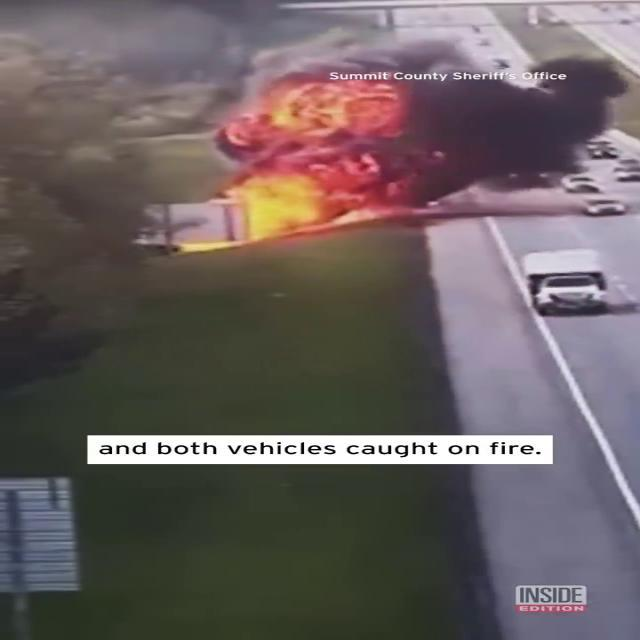Fire: (175, 171, 349, 250)
Smoke: (21, 0, 626, 170), (222, 0, 627, 172)
